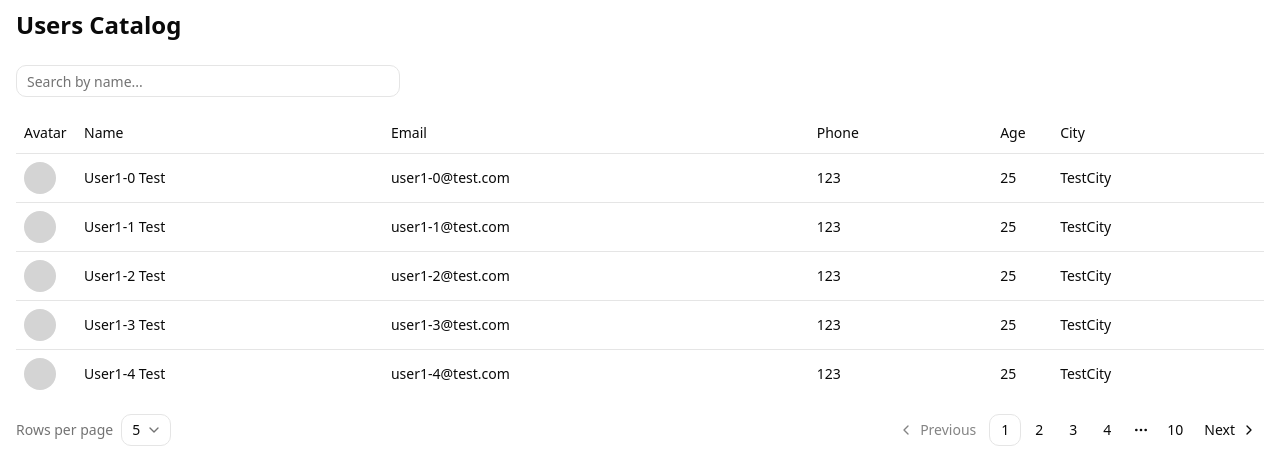
it: UsersPage - Rapid Interactions › rapid param changes abort intermediate requests and show final result
Step 1. Click the button "2" → [1039, 430], box [1023, 414, 1055, 446]
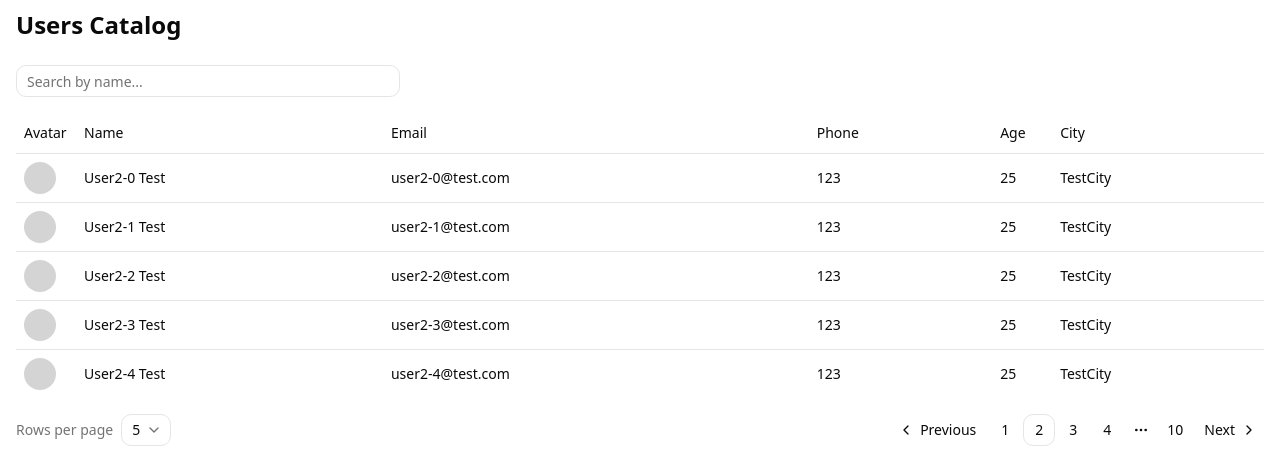
expect the text "User2-0 Test" is shown: met, box [76, 153, 383, 202]
